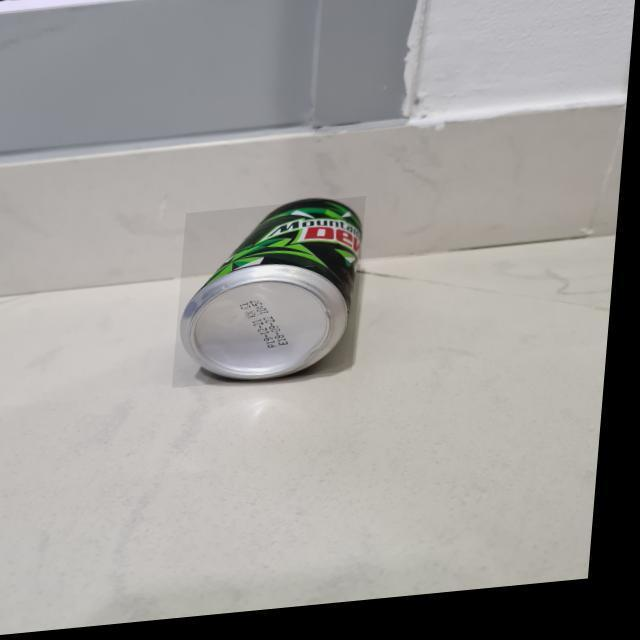trash: (176, 196, 380, 388)
